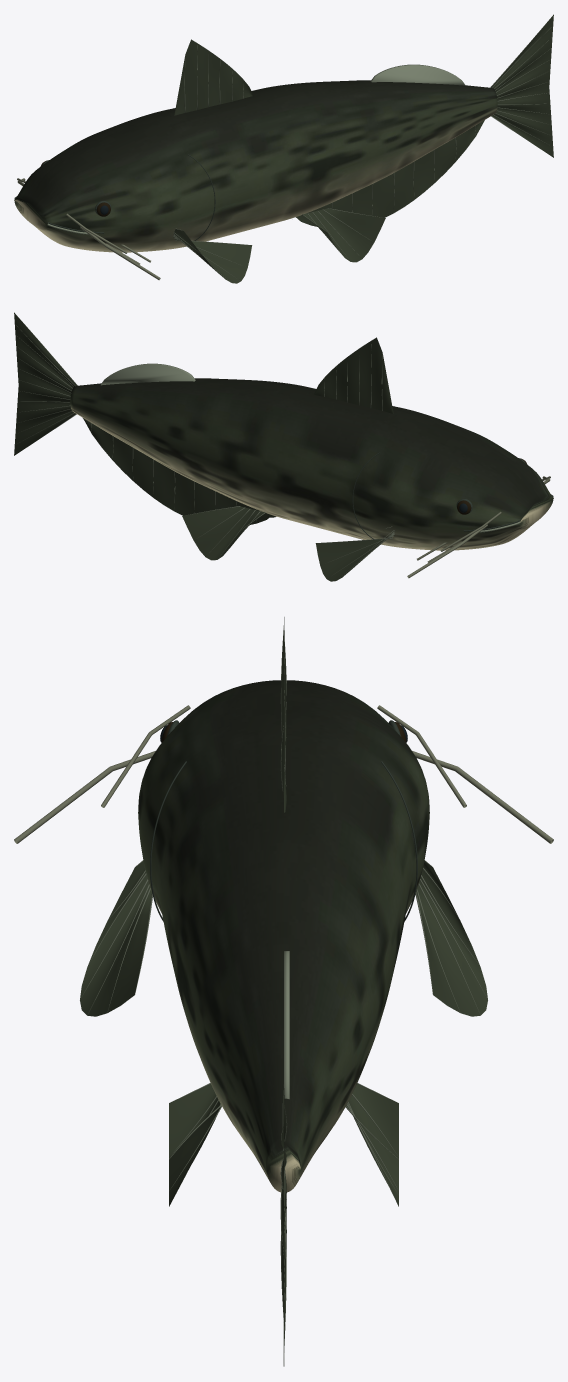
The model's file is black-bullhead.glb.
3 renders of one model, top to bottom at view 1: azimuth 30°, elevation 25°; view 2: azimuth 150°, elevation 25°; view 3: azimuth 270°, elevation 25°, orthographic. The views are drawn at different scales.
Parts seen in each view (by area): view 1: black-bullhead specimen.002; view 2: black-bullhead specimen.002; view 3: black-bullhead specimen.002.
Boxes of the visible parts, x1,y1,x2,y2 form: black-bullhead specimen.002: (14, 14, 553, 283); black-bullhead specimen.002: (14, 312, 553, 581); black-bullhead specimen.002: (14, 617, 553, 1366).
Bounding box in the file's own units: 2.06 × 0.8837 × 0.9327.
10 materials, 3 textured.
